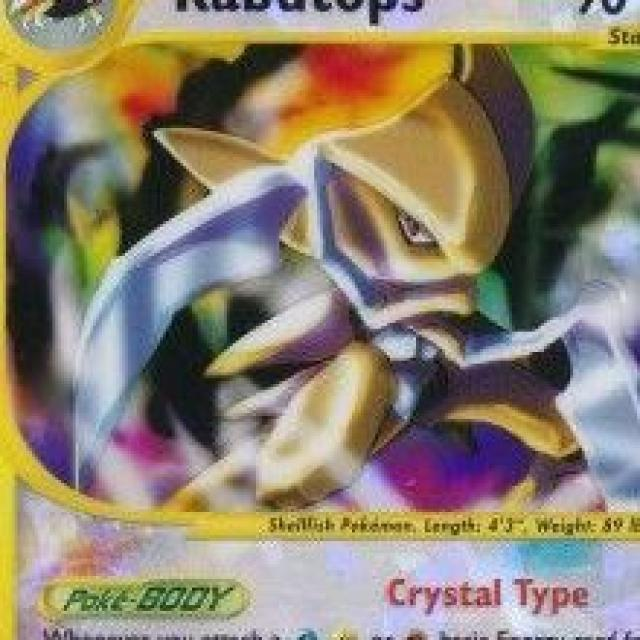Kabutops: (150, 109, 622, 514)
